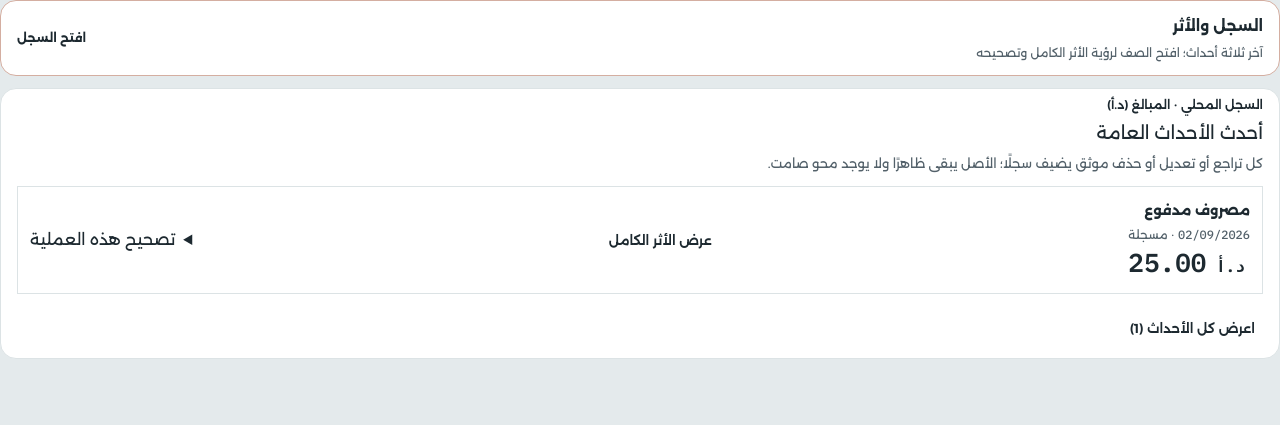
EventsLayer shows the owner's category label (المجموعة ١) › legacy events keep their honest unclassified wording
The width and height of the screenshot is (1280, 425).
Click the button with class "micro-finance-event-toggle". click: [660, 240]
box: [601,218,720,262]
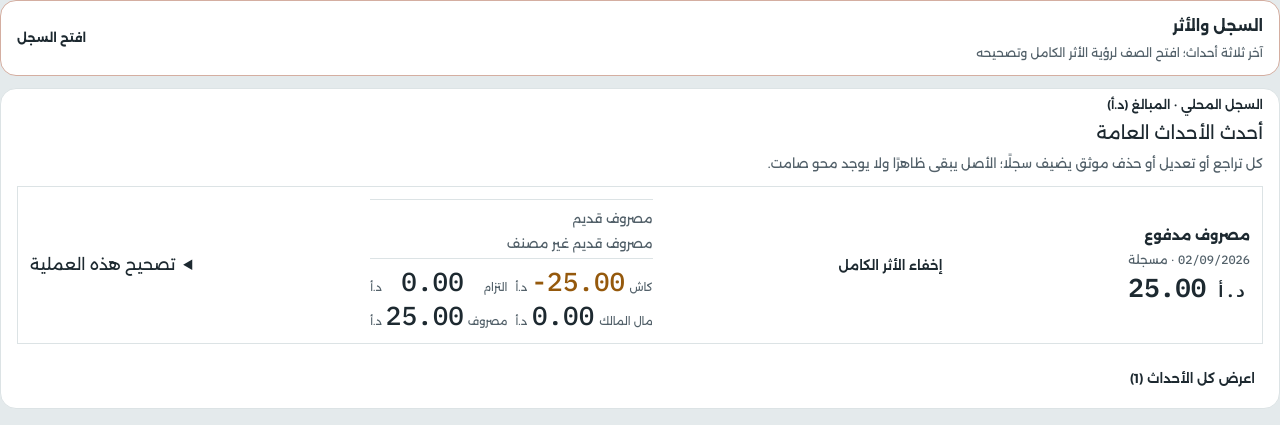
Check: the text "مصروف قديم غير مصنف" is shown, box [507,235,653,251]
